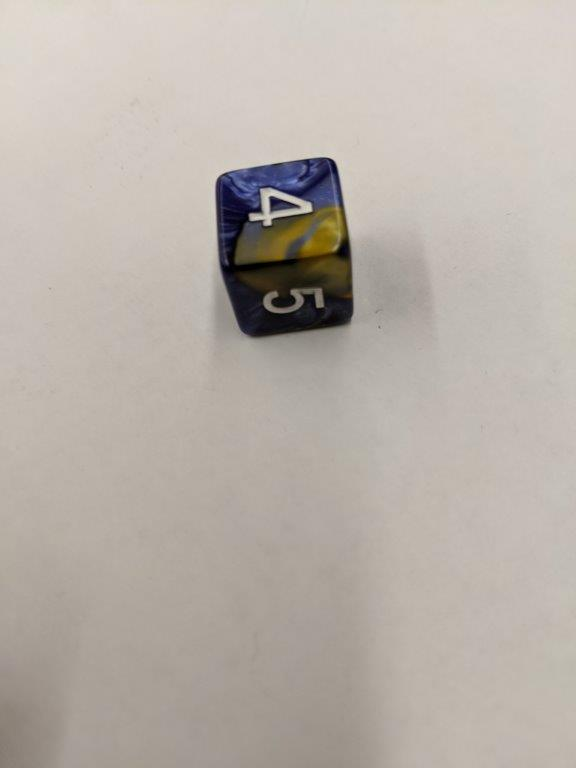d6-4: (215, 157, 358, 341)
